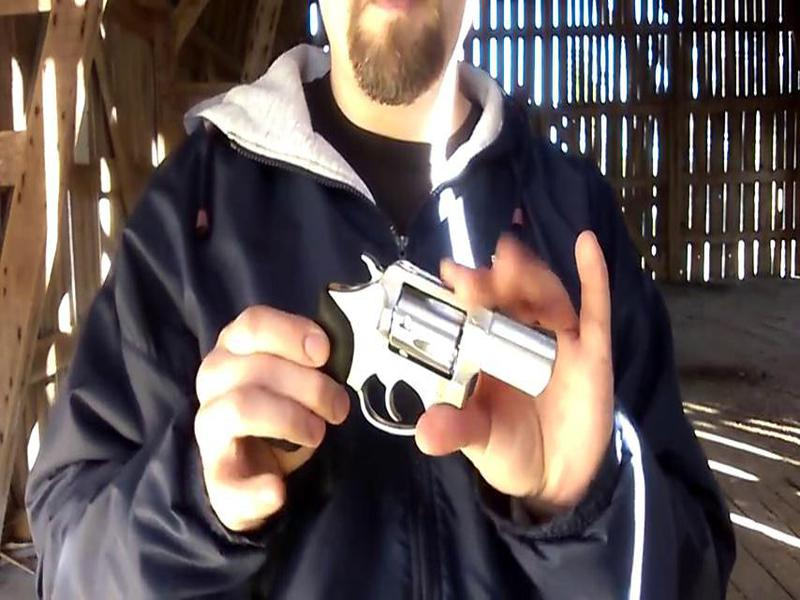Revolver: (287, 246, 571, 443)
